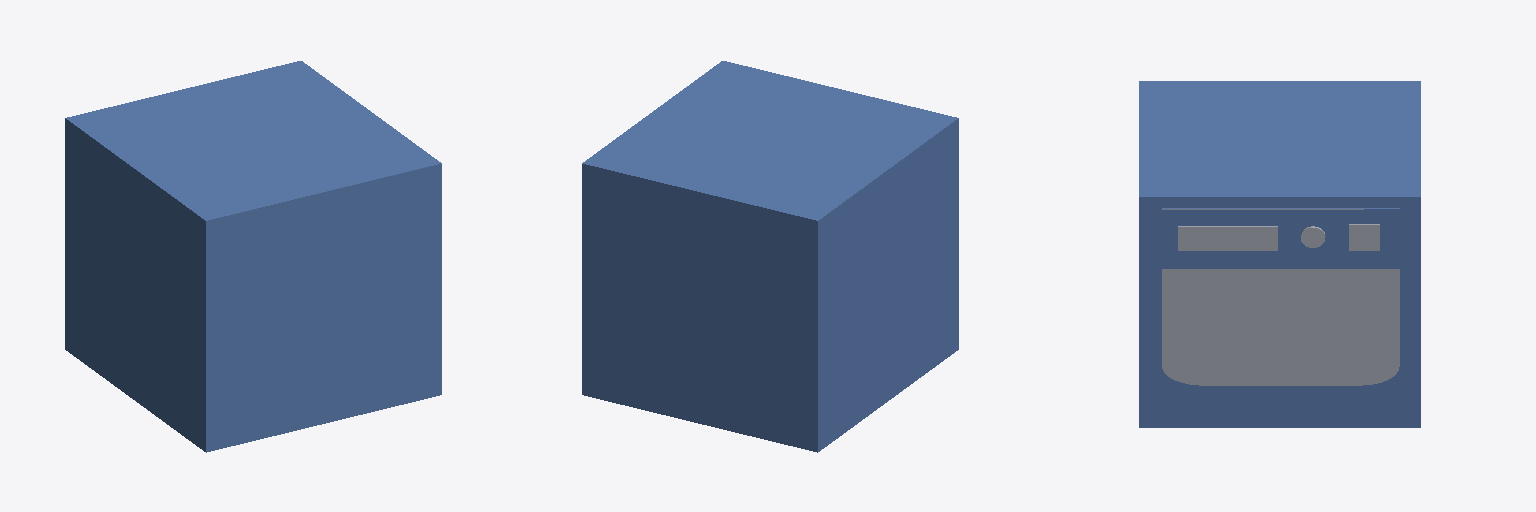
3 views of the same model, side by side, from view 1: azimuth 30°, elevation 25°; view 2: azimuth 150°, elevation 25°; view 3: azimuth 270°, elevation 25° (orthographic).
Visible parts, largest first — view 1: Cube.025_Cube.090; view 2: Cube.025_Cube.090; view 3: Cube.025_Cube.090.
Part boxes in pixels (bbox=[...]): Cube.025_Cube.090: bbox=[65, 61, 441, 452]; Cube.025_Cube.090: bbox=[582, 61, 958, 452]; Cube.025_Cube.090: bbox=[1139, 81, 1420, 427].
Bounding box in the file's own units: 8.92 × 8.2 × 9.03.
1 materials, 1 textured.